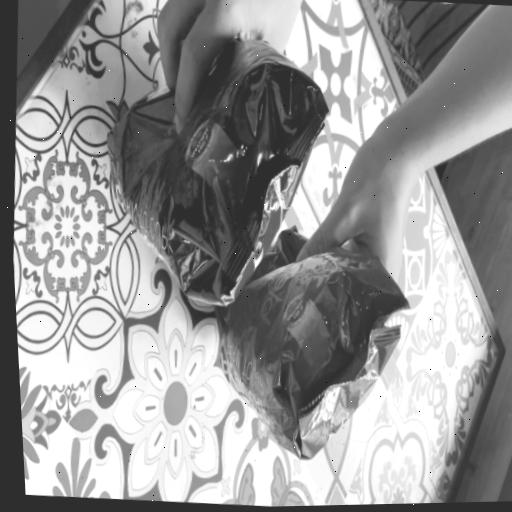cafe_hat: (107, 39, 328, 305)
cafe_xay: (216, 231, 407, 460)
